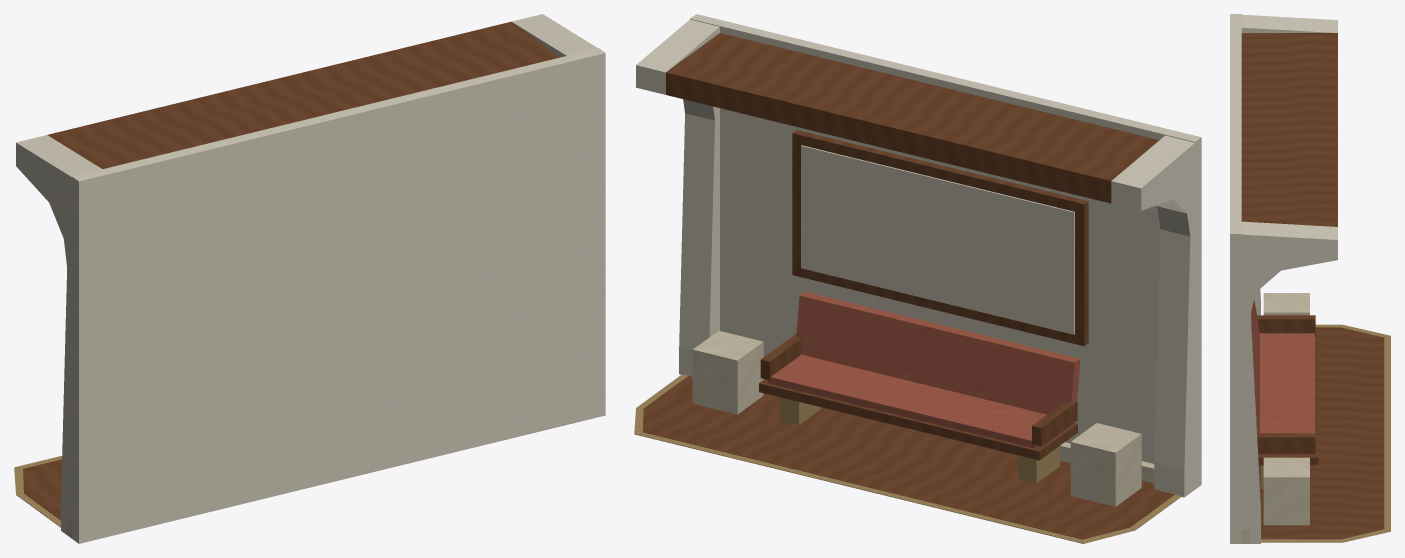
File: AST-RES-001.glb
The picture shows the model from 3 angles, left to right: view 1: azimuth 30°, elevation 25°; view 2: azimuth 150°, elevation 25°; view 3: azimuth 270°, elevation 25°; orthographic projection. The views are drawn at different scales.
Visible parts, largest first — view 1: RES_SolidBack, RES_Canopy, RES_RolledSide_0, RES_RolledSide_1, RES_VisualFloorWalnut, RES_VisualFloorBorder; view 2: RES_SolidBack, RES_MapBacking, RES_Canopy, RES_VisualFloorWalnut, RES_RolledSide_0, RES_SlopedBenchBack, RES_RolledSide_1, RES_MapFrame, RES_SeatCushion, RES_PlantPlinth_0, RES_PlantPlinth_1, RES_SeatFrame (+5 smaller); view 3: RES_Canopy, RES_VisualFloorWalnut, RES_RolledSide_1, RES_SolidBack, RES_SeatCushion, RES_PlantPlinth_1, RES_VisualFloorBorder, RES_RolledSide_0, RES_ReturnedArm_4.1, RES_ReturnedArm_1.2, RES_PlantPlinth_0, RES_SeatFrame (+1 smaller).
Boxes of the visible parts, <box> form: RES_SolidBack: <box>72,48,605,543</box>; RES_Canopy: <box>47,21,559,168</box>; RES_RolledSide_0: <box>16,135,110,543</box>; RES_RolledSide_1: <box>512,14,605,422</box>; RES_VisualFloorWalnut: <box>23,459,61,520</box>; RES_VisualFloorBorder: <box>14,417,595,531</box>; RES_SolidBack: <box>690,14,1201,463</box>; RES_MapBacking: <box>801,145,1074,334</box>; RES_Canopy: <box>666,33,1159,203</box>; RES_VisualFloorWalnut: <box>642,376,1174,539</box>; RES_RolledSide_0: <box>1111,135,1201,497</box>; RES_SlopedBenchBack: <box>796,291,1079,414</box>; RES_RolledSide_1: <box>636,19,719,376</box>; RES_MapFrame: <box>792,130,1088,345</box>; RES_SeatCushion: <box>767,354,1046,448</box>; RES_PlantPlinth_0: <box>1070,423,1141,506</box>; RES_PlantPlinth_1: <box>692,330,763,414</box>; RES_SeatFrame: <box>759,379,1077,460</box>; RES_Canopy: <box>1241,33,1337,226</box>; RES_VisualFloorWalnut: <box>1258,327,1384,539</box>; RES_RolledSide_1: <box>1230,221,1337,543</box>; RES_SolidBack: <box>1230,14,1241,543</box>; RES_SeatCushion: <box>1258,333,1314,454</box>; RES_PlantPlinth_1: <box>1263,457,1309,525</box>; RES_VisualFloorBorder: <box>1261,324,1390,542</box>; RES_RolledSide_0: <box>1241,14,1337,315</box>; RES_ReturnedArm_4.1: <box>1257,433,1315,453</box>; RES_ReturnedArm_1.2: <box>1257,315,1315,335</box>; RES_PlantPlinth_0: <box>1263,293,1309,315</box>; RES_SeatFrame: <box>1258,335,1318,465</box>.
Size of the model in its own units: 5.4 by 3.55 by 1.67.
Materials: 7 (6 with a texture image).
